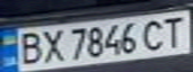4: (103, 21, 124, 56)
6: (118, 20, 142, 55)
7: (63, 25, 87, 61)
8: (84, 24, 106, 58)
B: (12, 29, 45, 66)
C: (139, 16, 172, 52)
T: (157, 14, 190, 48)
X: (39, 26, 66, 64)
